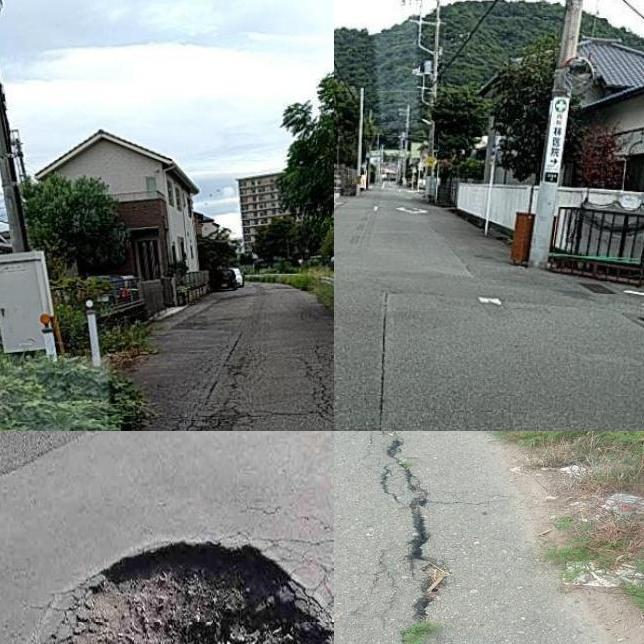Lubang: (74, 540, 330, 644)
Memanjang: (361, 431, 465, 644)
Sambungan: (352, 286, 398, 431)
